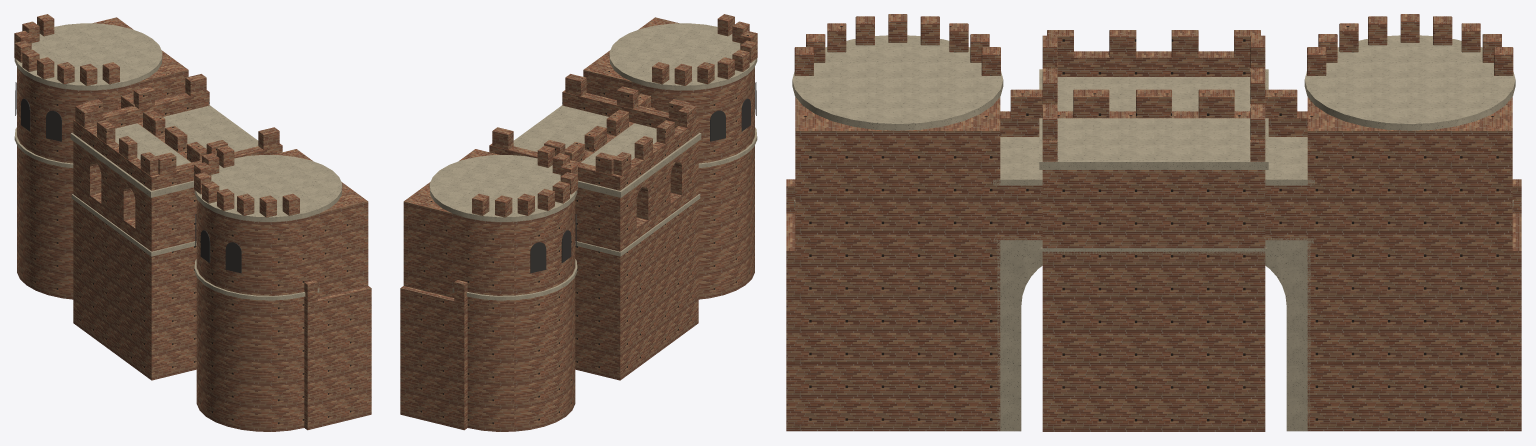
Rendered from aurelian-walls-kit.glb.
The picture shows the model from 3 angles, left to right: view 1: azimuth 30°, elevation 25°; view 2: azimuth 150°, elevation 25°; view 3: azimuth 270°, elevation 25°; orthographic projection. The views are drawn at different scales.
Visible parts, largest first — view 1: wall_gate_brick, wall_tower_brick, wall_gate_travertine, wall_tower_travertine, wall_gate_shadow; view 2: wall_gate_brick, wall_tower_brick, wall_gate_travertine, wall_tower_travertine, wall_gate_shadow; view 3: wall_gate_brick, wall_tower_brick, wall_gate_travertine, wall_tower_travertine.
Boxes of the visible parts, x1,y1,x2,y2 form: wall_gate_brick: (14,14,371,431); wall_tower_brick: (73,74,282,380); wall_gate_travertine: (14,23,342,300); wall_tower_travertine: (70,105,258,256); wall_gate_shadow: (15,82,241,273); wall_gate_brick: (400,14,757,431); wall_tower_brick: (489,74,698,380); wall_gate_travertine: (429,23,757,300); wall_tower_travertine: (513,105,701,256); wall_gate_shadow: (530,82,756,273); wall_gate_brick: (786,14,1521,431); wall_tower_brick: (1042,30,1265,431); wall_gate_travertine: (792,35,1515,431); wall_tower_travertine: (1039,69,1268,254).
Bounding box in the file's own units: 7.27 × 12.05 × 24.4.
Materials: 5 (4 with a texture image).
